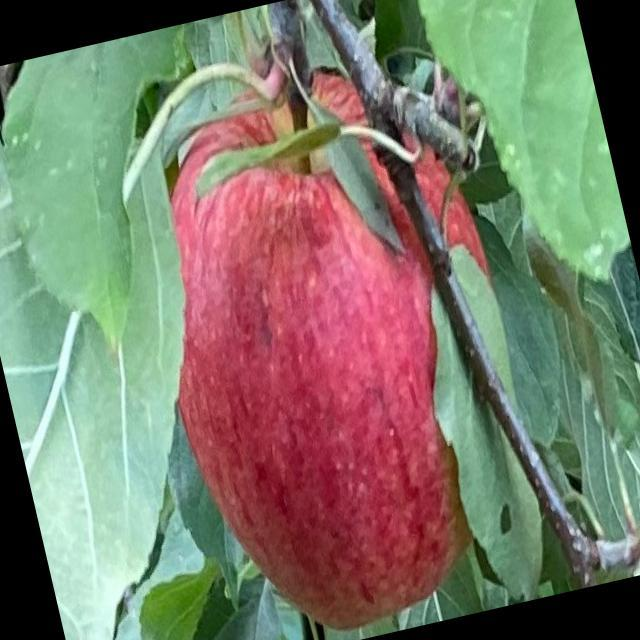100-_ripeness: (111, 43, 558, 639)
